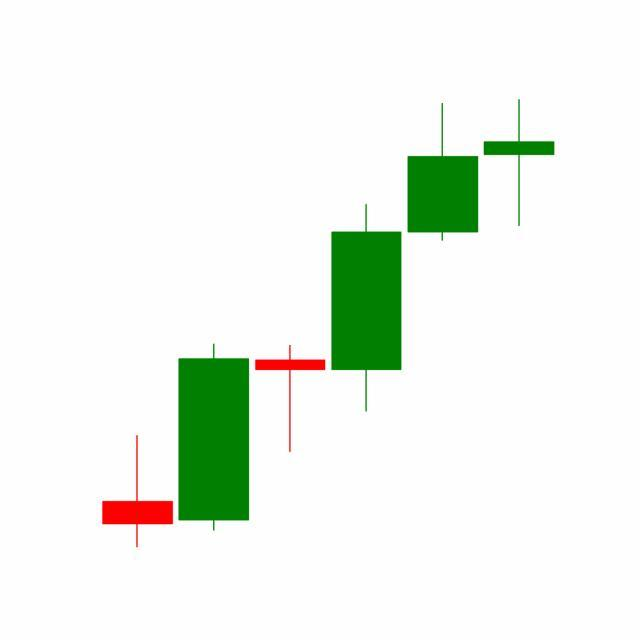Advance Block: (326, 100, 555, 417)
